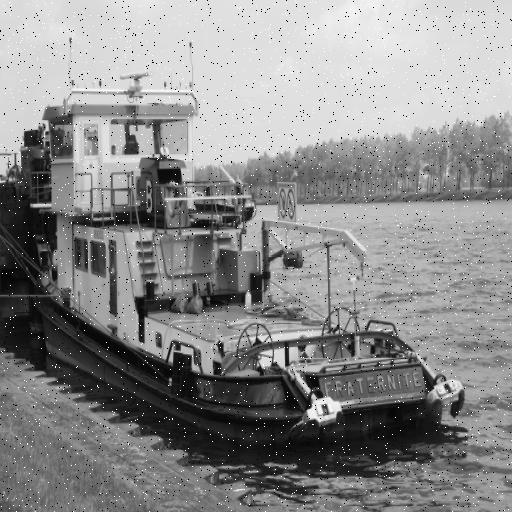tugboat: (25, 35, 470, 473)
